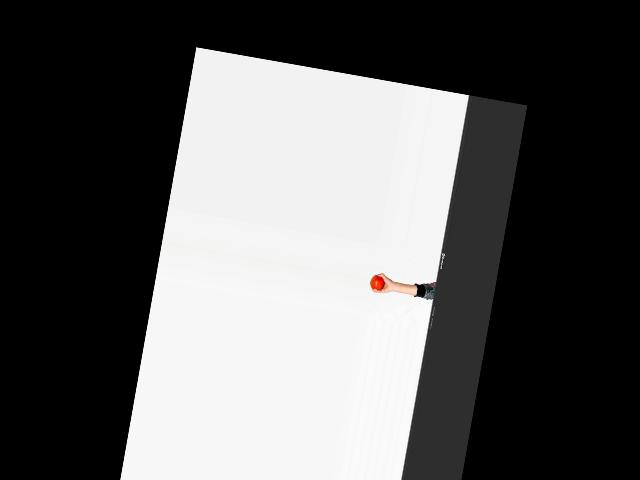tomato: (369, 274, 385, 291)
